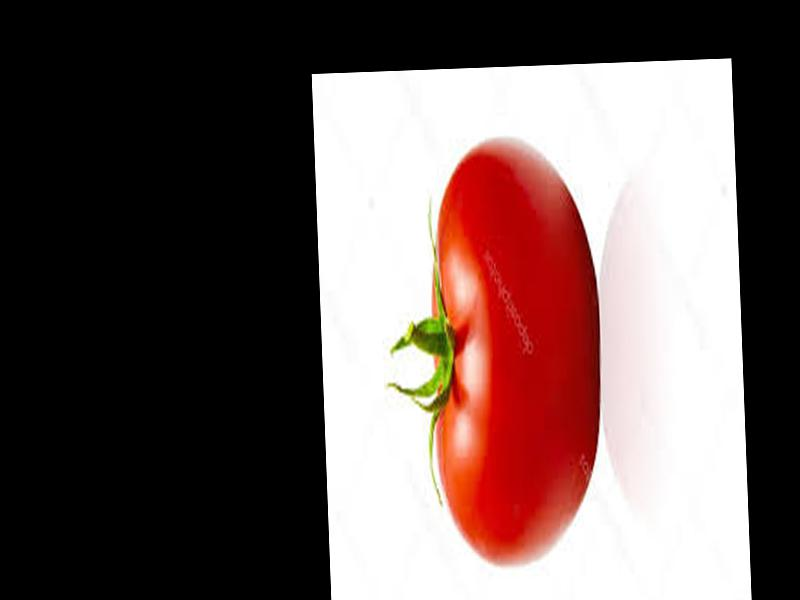Tomato: (425, 133, 607, 571)
